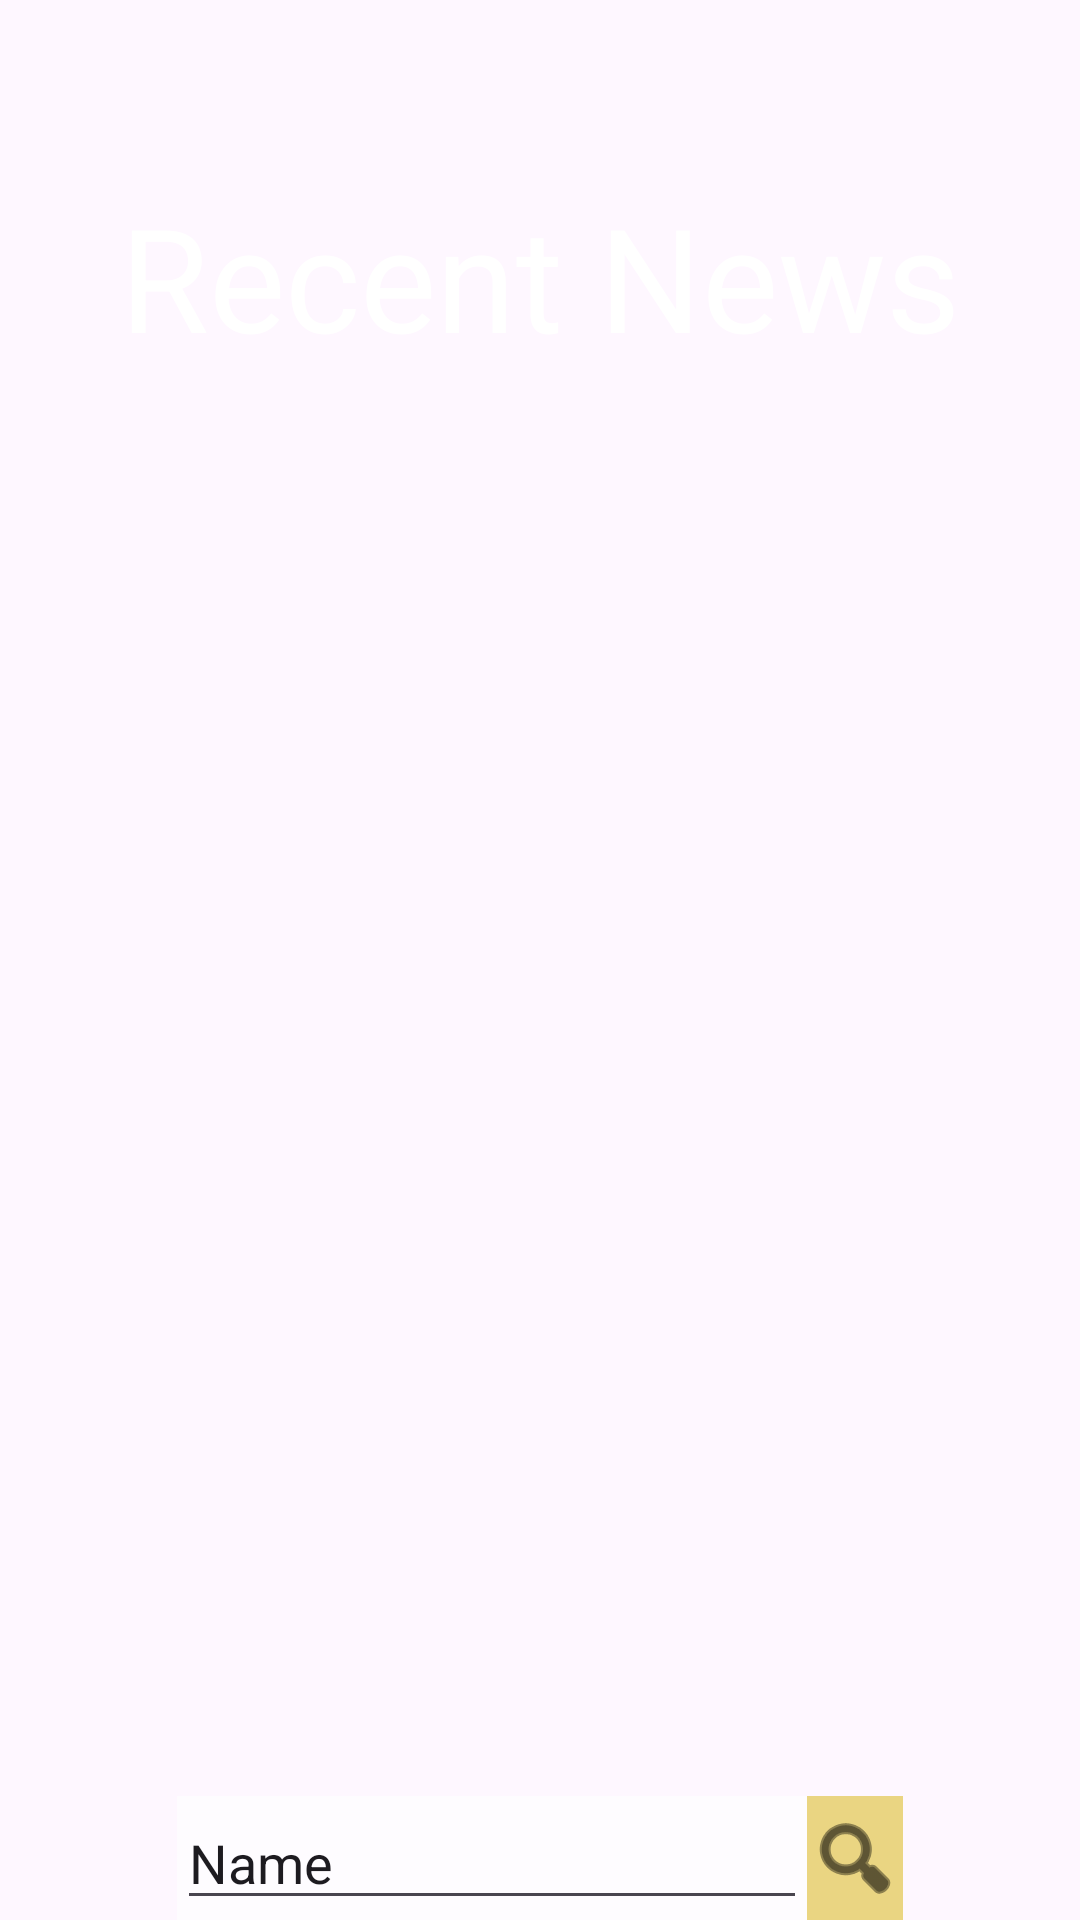

Icon click points for this 1080 x 1920 phone screenshot, format (x=x, y=y):
search: (x=855, y=1858)
